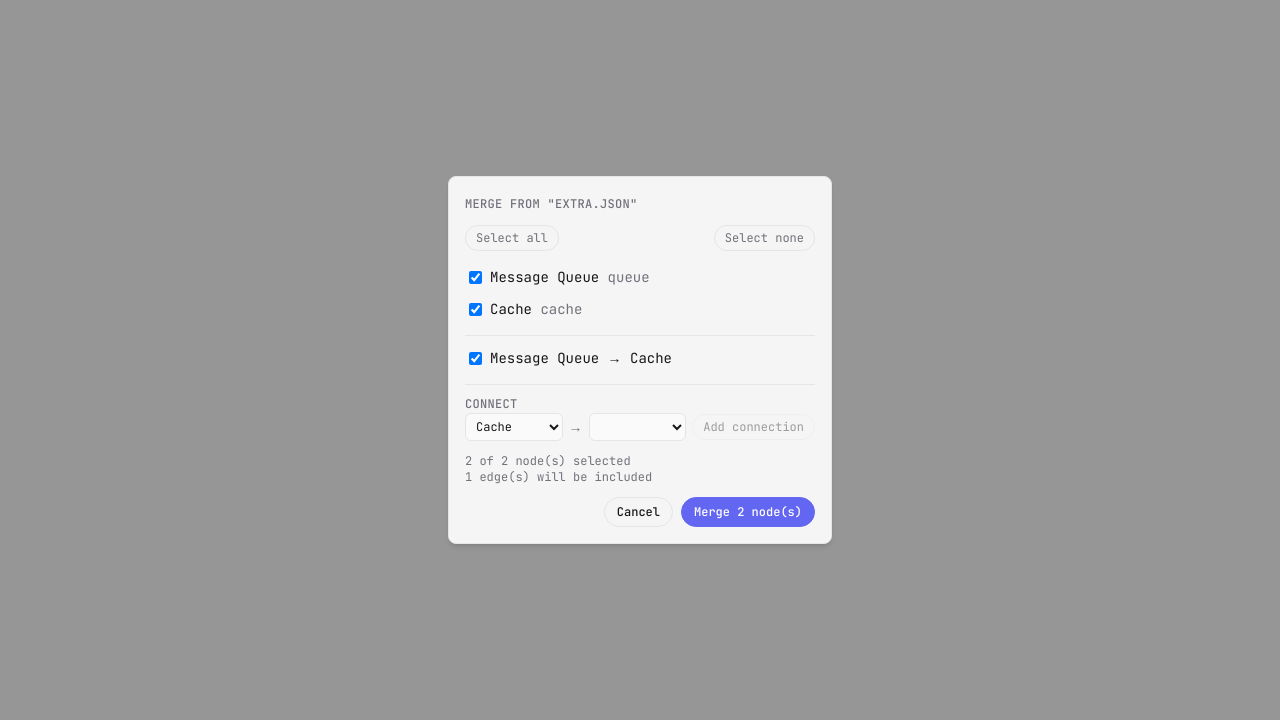
Scenario: MergePickerDialog › the confirm button is disabled once nothing is selected
What coordinates should you click on to do the following:
click the button "Select none"
I would click on:
 (764, 238)
Its box is top-left (714, 225), bottom-right (815, 251).
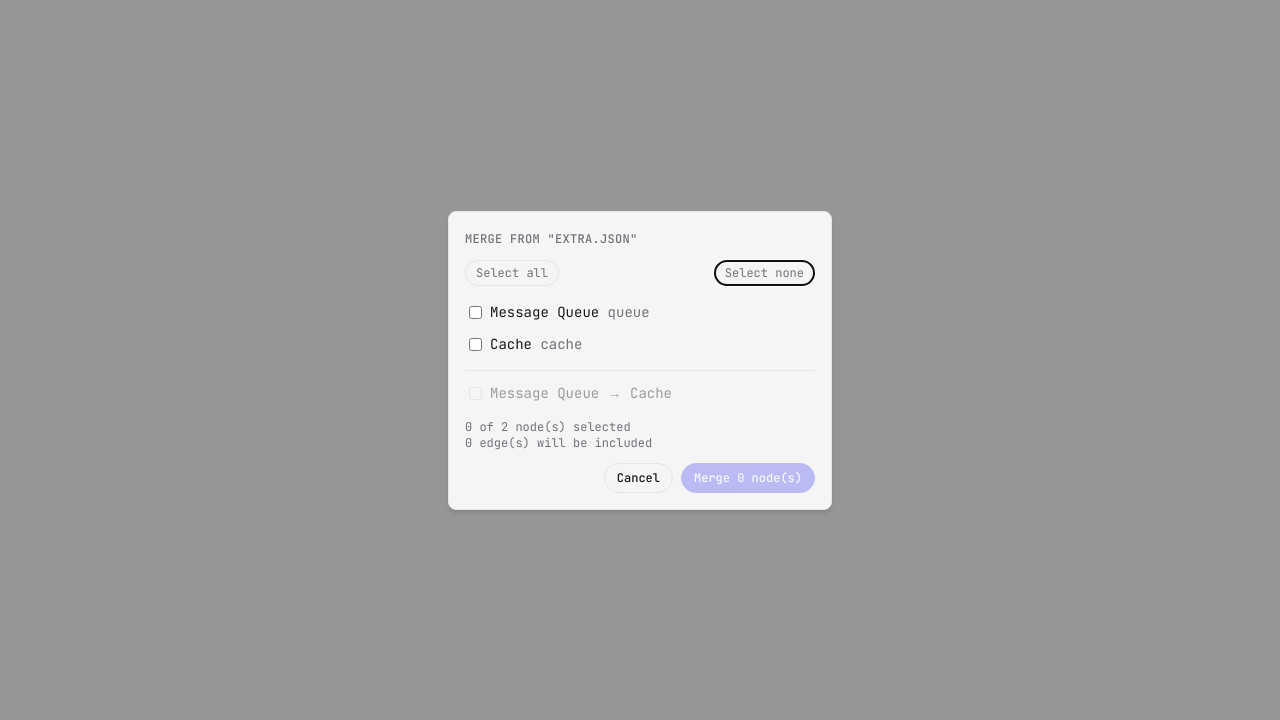
Now the button "Merge 0 node(s)" is disabled, box top-left (681, 462), bottom-right (815, 492)
